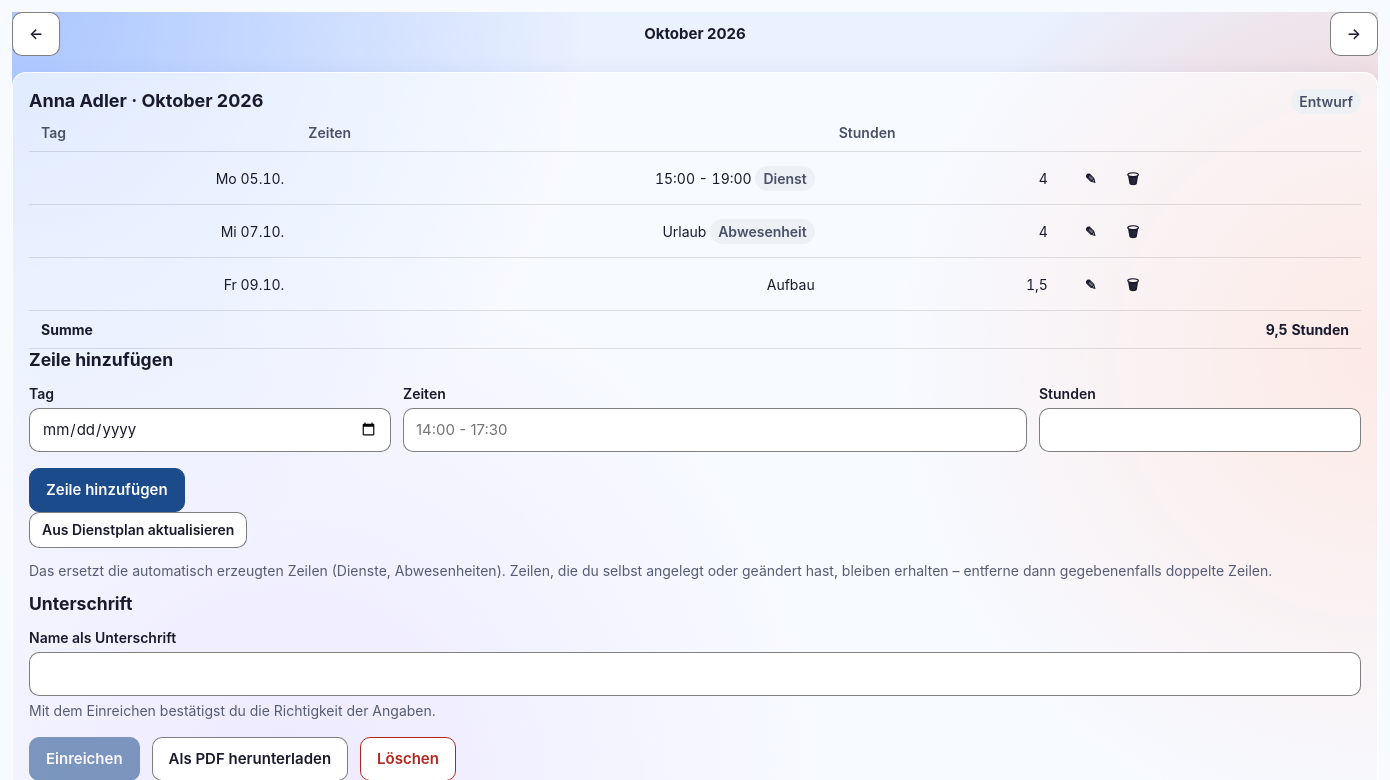
Nachweis: TZK (eigener Nachweis) › PDF: Fehler beim Erstellen werden gemeldet
This screenshot has width=1390, height=780.
What coordinates should you click on to do the following:
click the button "Als PDF herunterladen"
I would click on:
 (250, 759)
Its box is [152,737,348,779].
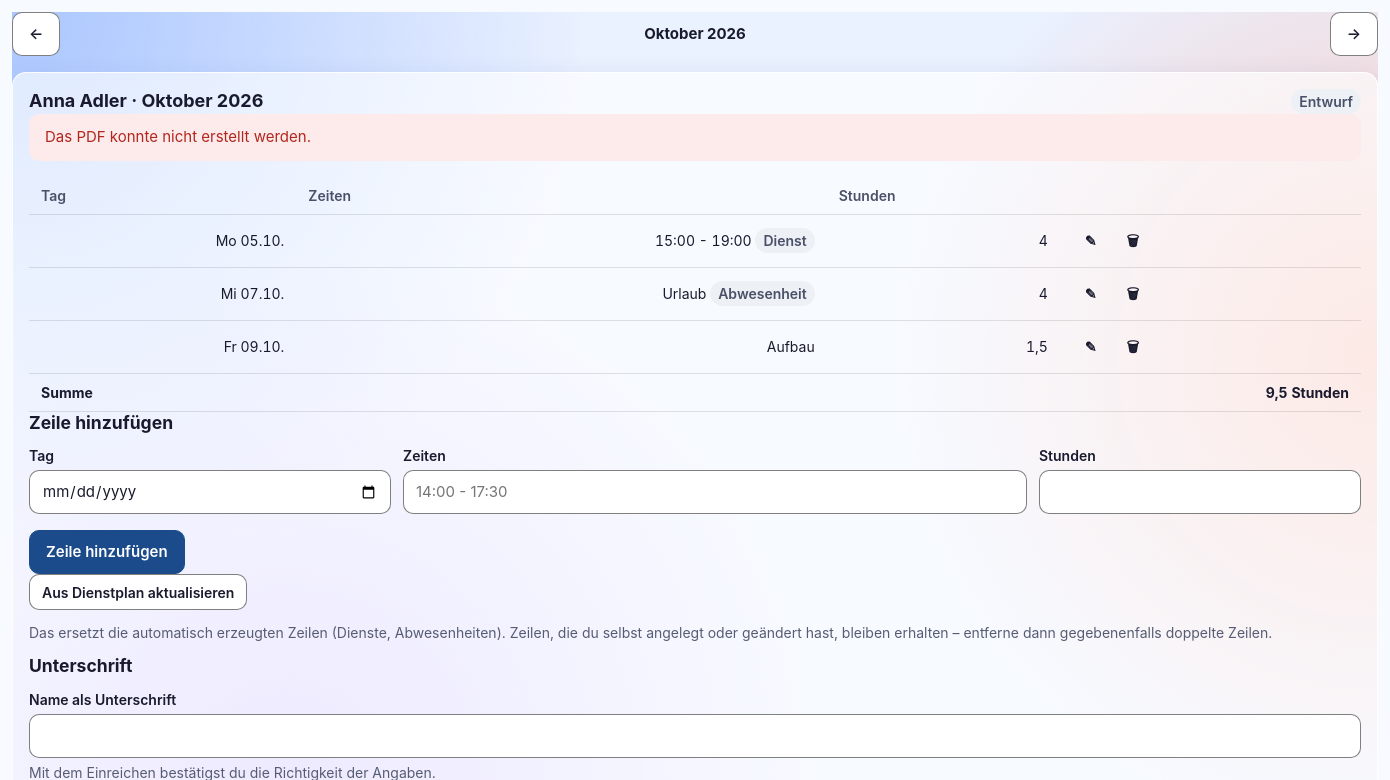
Result: the text "Das PDF konnte nicht erstellt werden." is shown at [29,114,1361,160]
